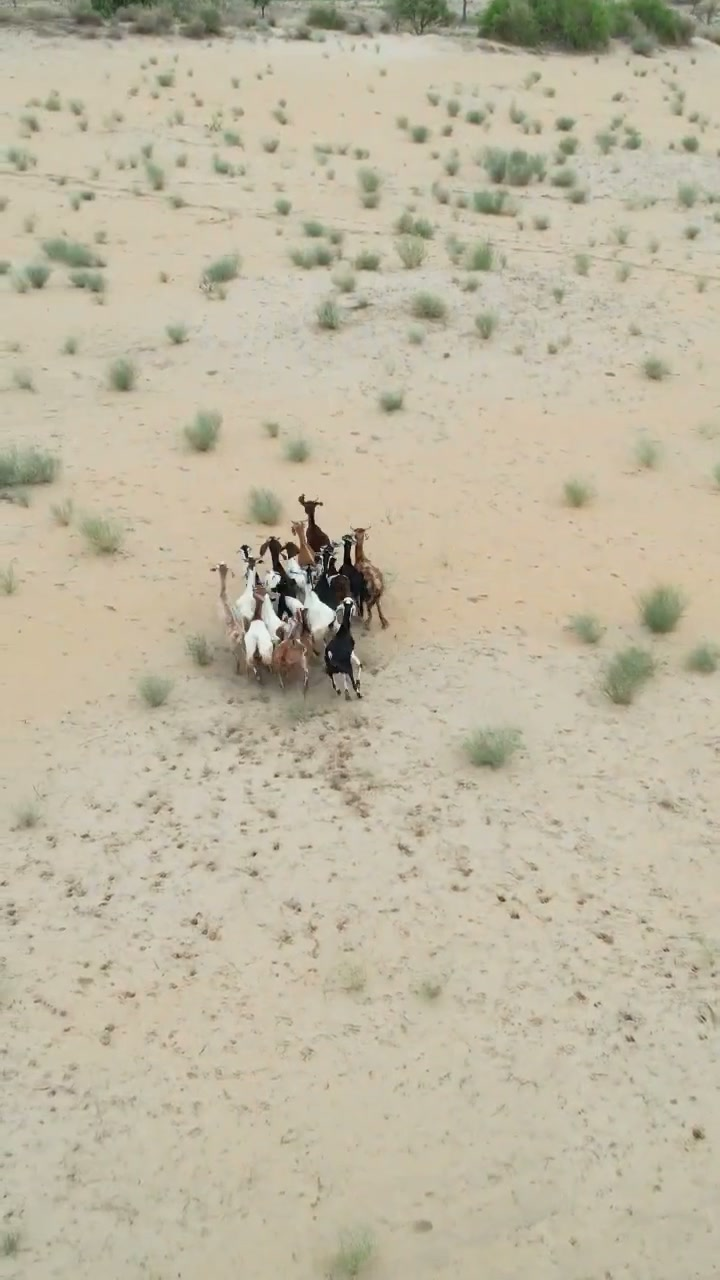animal_footprint: (18, 684, 642, 1279)
